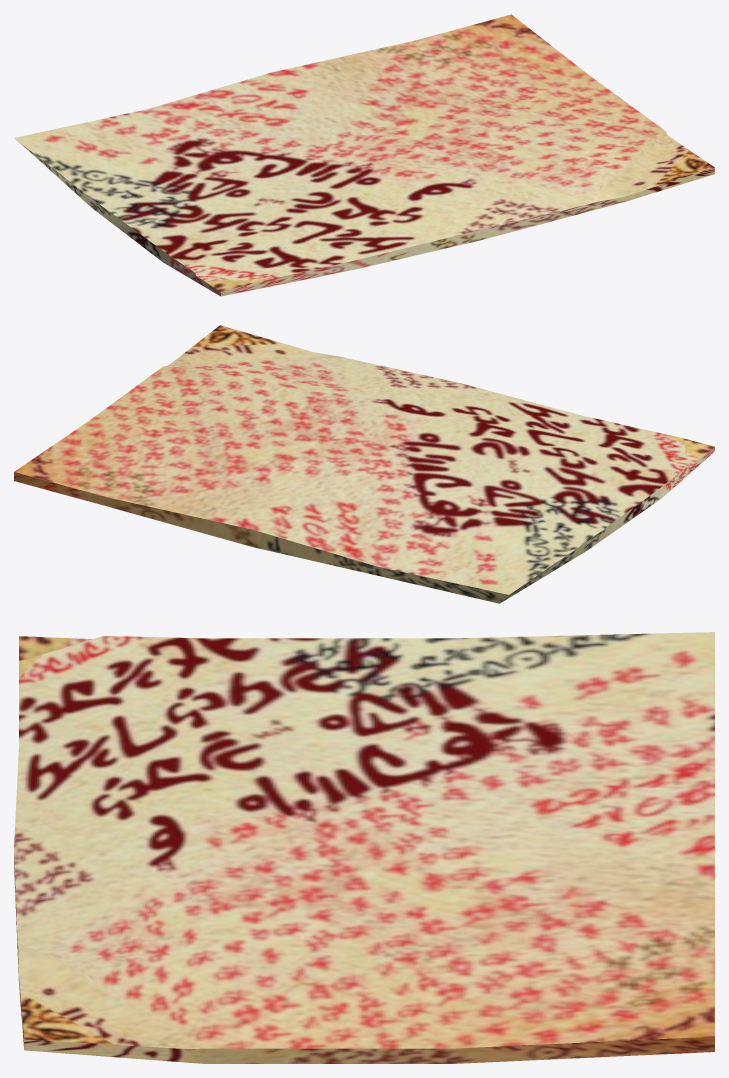
File: papela.fbx
The picture shows the model from 3 angles, top to bottom: view 1: azimuth 30°, elevation 25°; view 2: azimuth 150°, elevation 25°; view 3: azimuth 270°, elevation 25°; orthographic projection. The views are drawn at different scales.
Parts seen in each view (by area): view 1: papela; view 2: papela; view 3: papela.
Part boxes in pixels (x1,y1,x2,y2): papela: [14, 14, 714, 296]; papela: [14, 325, 714, 603]; papela: [14, 632, 714, 1063].
Bounding box in the file's own units: 5.78 × 0.3734 × 4.15.
